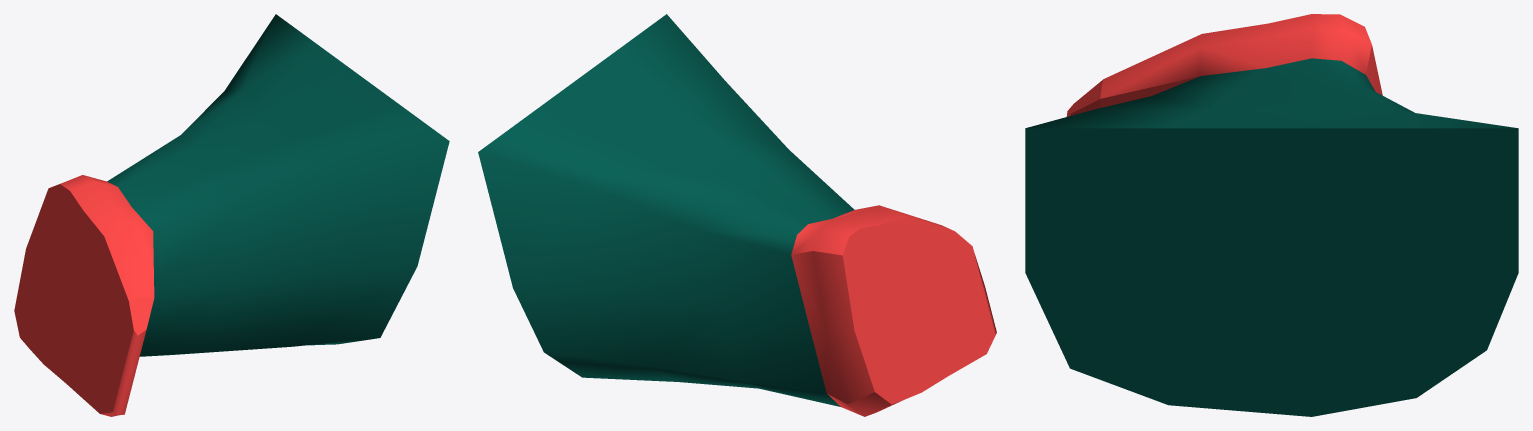
File: AXO_SAD_LEG_L.fbx
3 views of the same model, side by side, from view 1: azimuth 30°, elevation 25°; view 2: azimuth 150°, elevation 25°; view 3: azimuth 270°, elevation 25° (orthographic). The views are drawn at different scales.
Parts seen in each view (by area): view 1: AXO_SAD_LEG_L; view 2: AXO_SAD_LEG_L; view 3: AXO_SAD_LEG_L.
Boxes of the visible parts, x1,y1,x2,y2 form: AXO_SAD_LEG_L: [14, 14, 449, 416]; AXO_SAD_LEG_L: [478, 14, 996, 416]; AXO_SAD_LEG_L: [1025, 14, 1518, 416].
Size of the model in its own units: 3.55 by 2.47 by 3.32.
